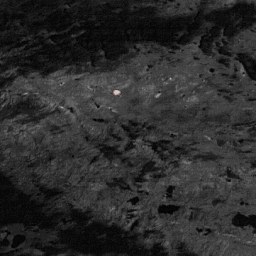Target: (112, 87, 122, 96)
